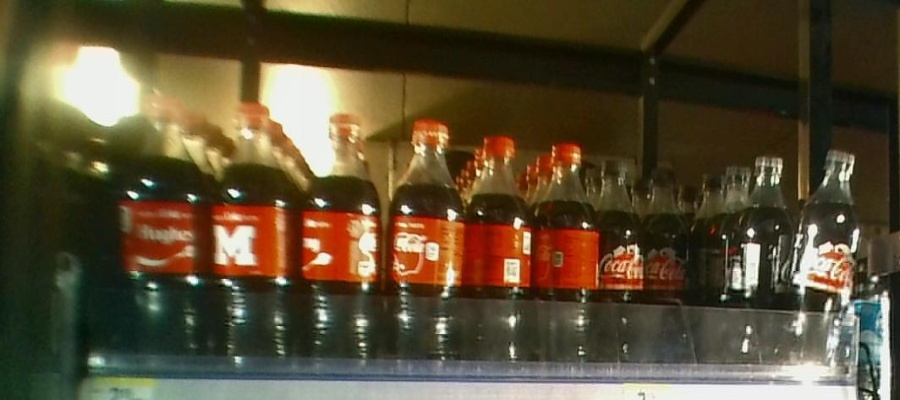bottle: (117, 79, 208, 373), (209, 90, 299, 381), (301, 96, 383, 380), (385, 114, 469, 386), (785, 145, 862, 387), (533, 134, 596, 382), (473, 124, 530, 384), (646, 152, 690, 375), (598, 145, 642, 367)
